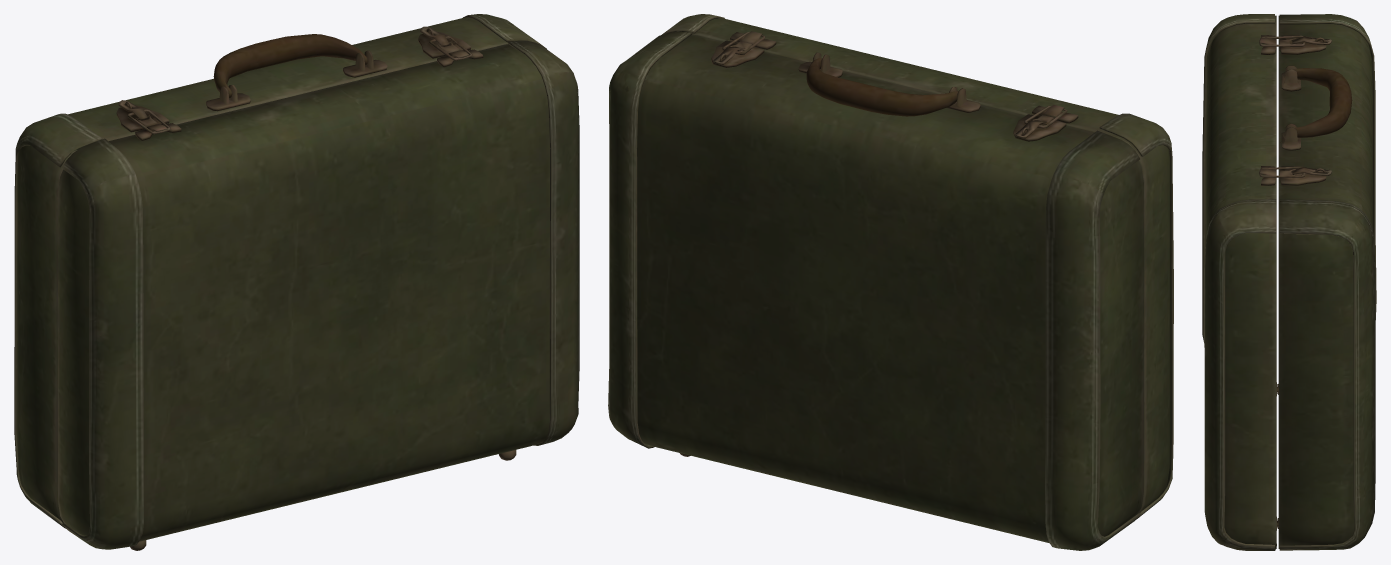
File: vintage_suitcase.glb
3 renders of one model, left to right at view 1: azimuth 30°, elevation 25°; view 2: azimuth 150°, elevation 25°; view 3: azimuth 270°, elevation 25°, orthographic. The views are drawn at different scales.
Visible parts, largest first — view 1: vintage_suitcase_01_bottom; view 2: vintage_suitcase_01_bottom; view 3: vintage_suitcase_01_bottom.
Part boxes in pixels (bbox=[...]): vintage_suitcase_01_bottom: bbox=[14, 14, 579, 550]; vintage_suitcase_01_bottom: bbox=[608, 14, 1173, 550]; vintage_suitcase_01_bottom: bbox=[1202, 14, 1376, 550].
Size of the model in its own units: 0.6931 by 0.5678 by 0.2388.
Materials: 1 (1 with a texture image).
